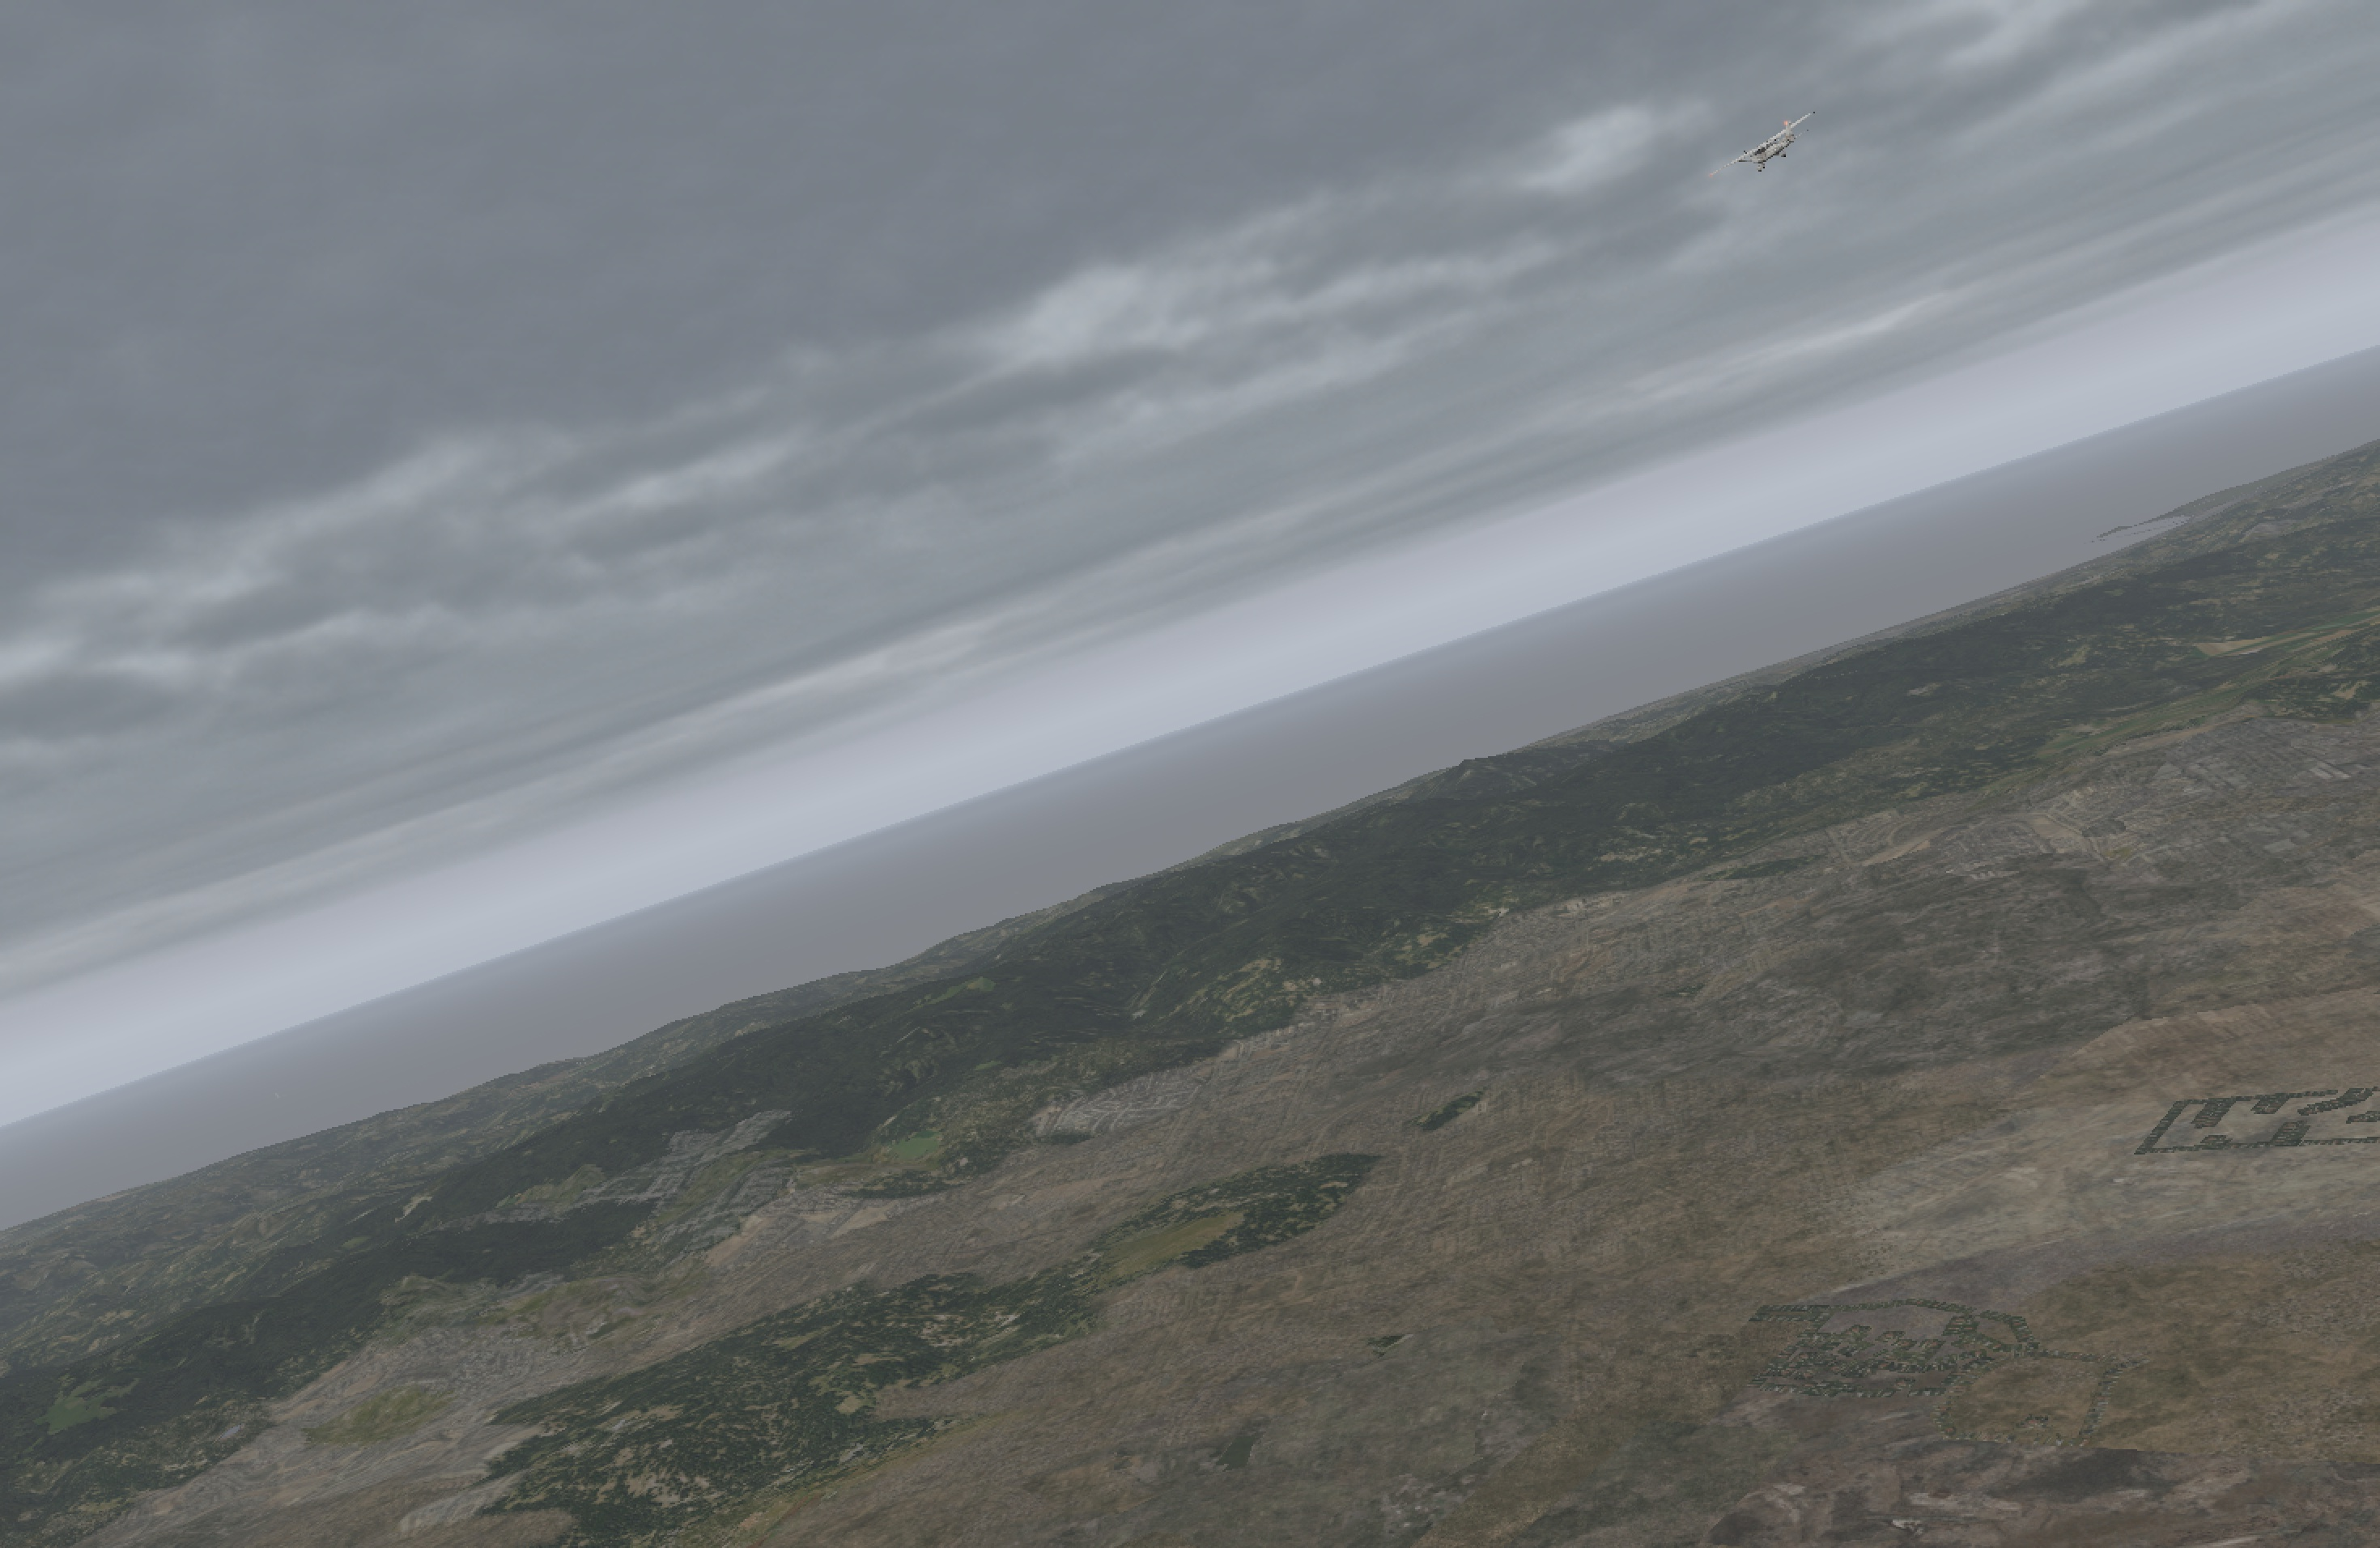aircraft: (1723, 135, 1806, 167)
